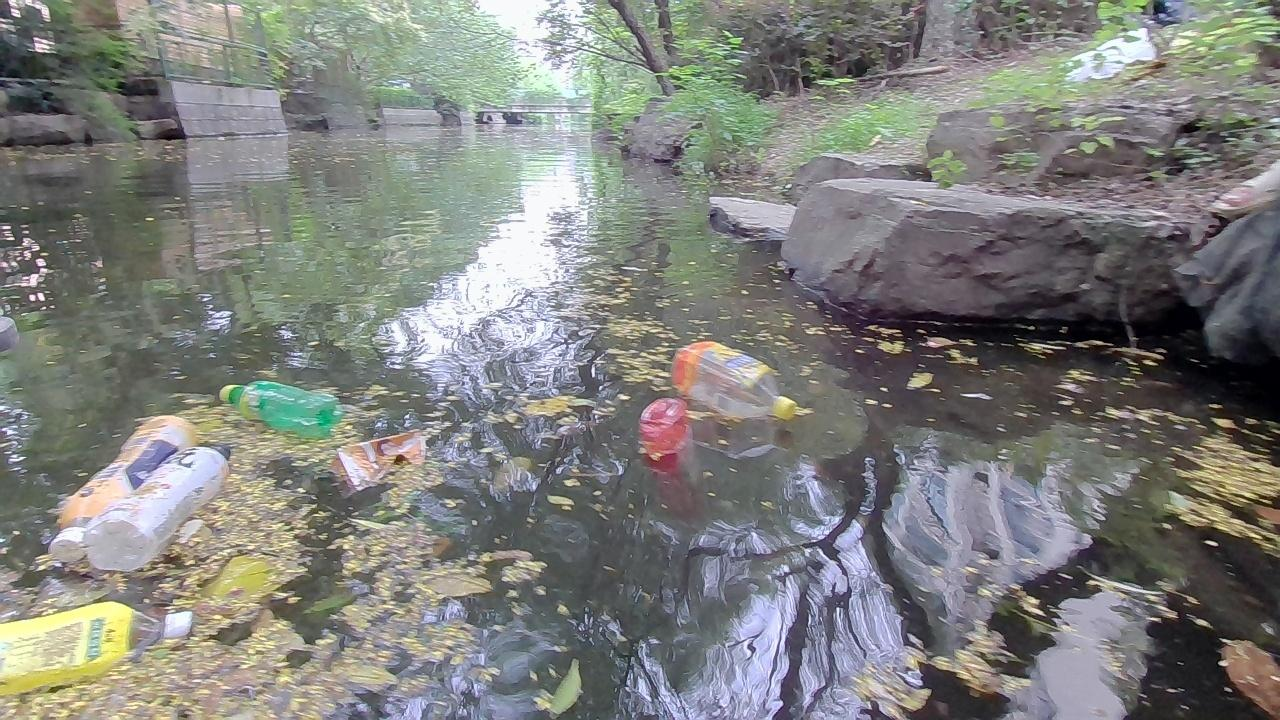bottle: (47, 406, 195, 565), (0, 594, 194, 698), (86, 439, 233, 569), (676, 340, 792, 420), (216, 377, 339, 428), (335, 427, 431, 489), (642, 398, 685, 458)
